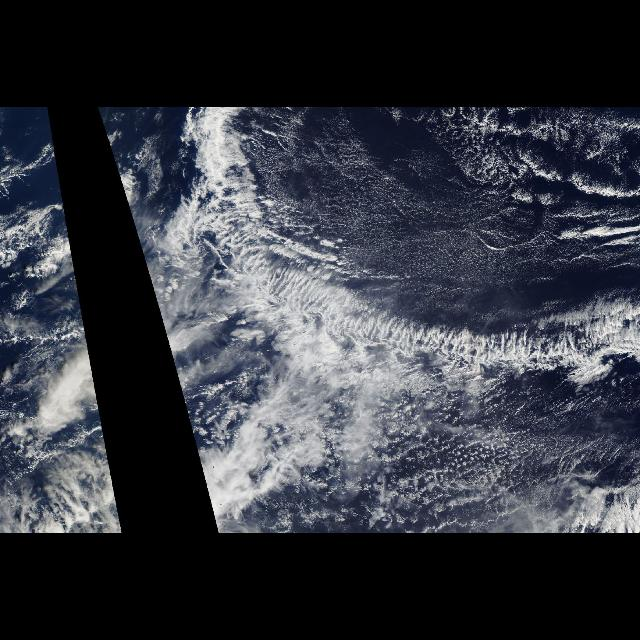Fish: (152, 114, 640, 522)
Gravel: (297, 440, 623, 532)
Sugar: (249, 108, 639, 308), (271, 380, 624, 530)
